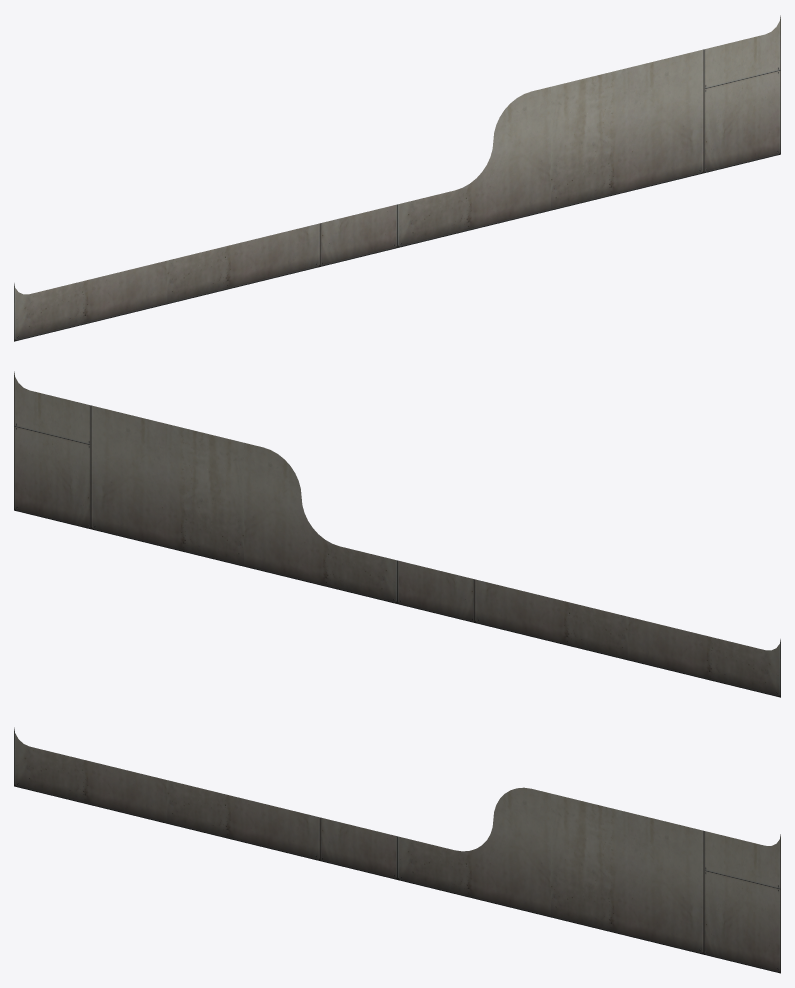
The model's file is lab_lift_shaft_decal_special_02.dae.
3 renders of one model, top to bottom at view 1: azimuth 30°, elevation 25°; view 2: azimuth 150°, elevation 25°; view 3: azimuth 330°, elevation 25°, orthographic.
Visible parts, largest first — view 1: lab_lift_shaft_special; view 2: lab_lift_shaft_special; view 3: lab_lift_shaft_special.
Part boxes in pixels (box(x1,y1,x2,y2)): lab_lift_shaft_special: box(14, 15, 780, 341); lab_lift_shaft_special: box(14, 371, 780, 697); lab_lift_shaft_special: box(14, 727, 780, 973).
Bounding box in the file's own units: 10 × 1.75 × 0.
